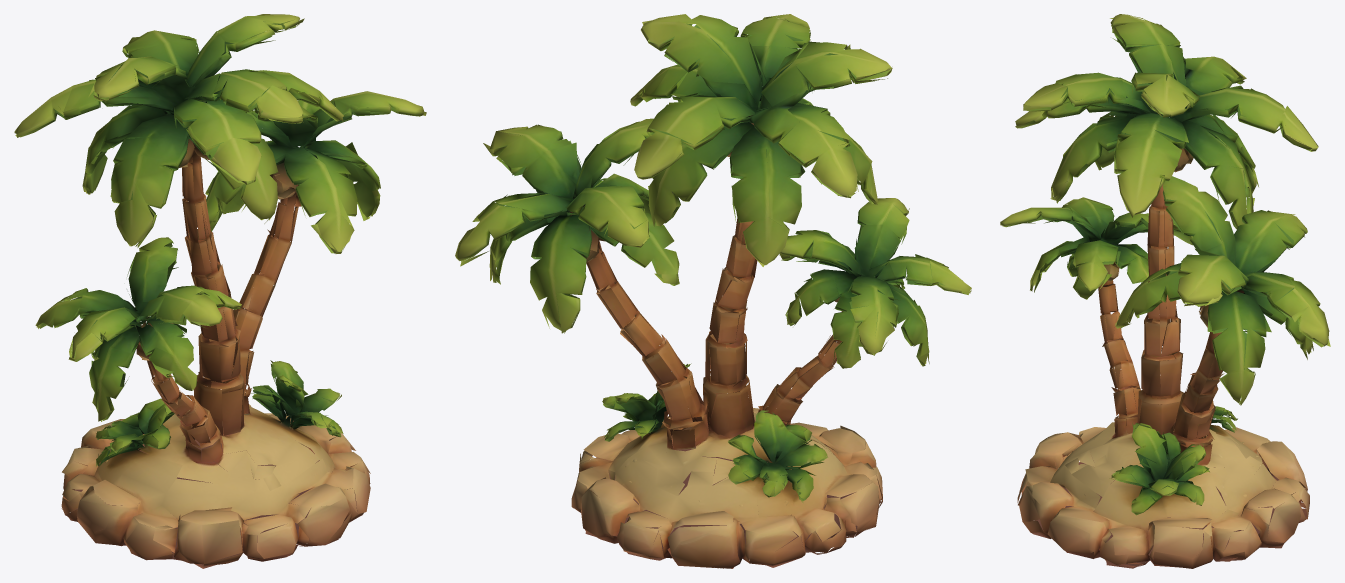
The model's file is palm_cluster.glb.
3 renders of one model, left to right at view 1: azimuth 30°, elevation 25°; view 2: azimuth 150°, elevation 25°; view 3: azimuth 270°, elevation 25°, orthographic. The views are drawn at different scales.
Parts seen in each view (by area): view 1: palm_cluster; view 2: palm_cluster; view 3: palm_cluster.
Part boxes in pixels (bbox=[...]): palm_cluster: bbox=[14, 14, 426, 568]; palm_cluster: bbox=[455, 14, 971, 568]; palm_cluster: bbox=[1000, 14, 1330, 568].
Size of the model in its own units: 31.16 by 34 by 22.58.
1 material, 1 textured.
